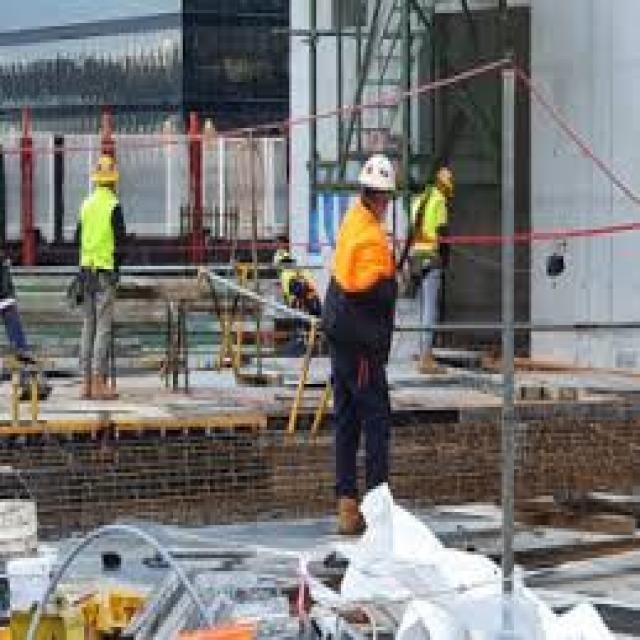Reflective-Jacket: (321, 197, 403, 308), (70, 187, 134, 289), (405, 181, 460, 282)
Safety-Helmet: (348, 144, 406, 203), (84, 148, 124, 190), (428, 154, 462, 200)
